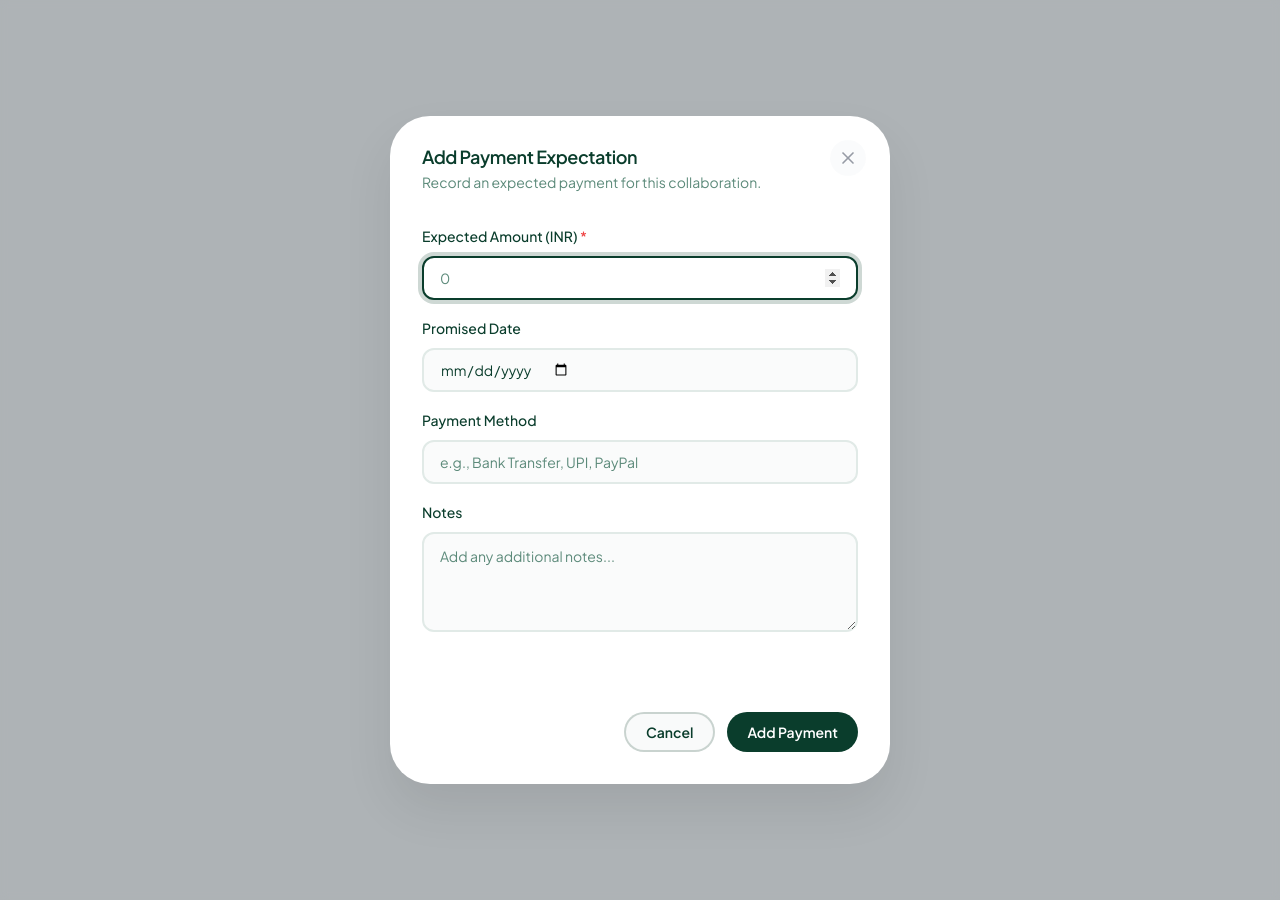
PaymentExpectationModal › Form Validation › should show error when amount is negative
The image size is (1280, 900).
Type "-100" into the number field labelled "Expected Amount (INR) *" at (640,278), box [422, 256, 858, 300]
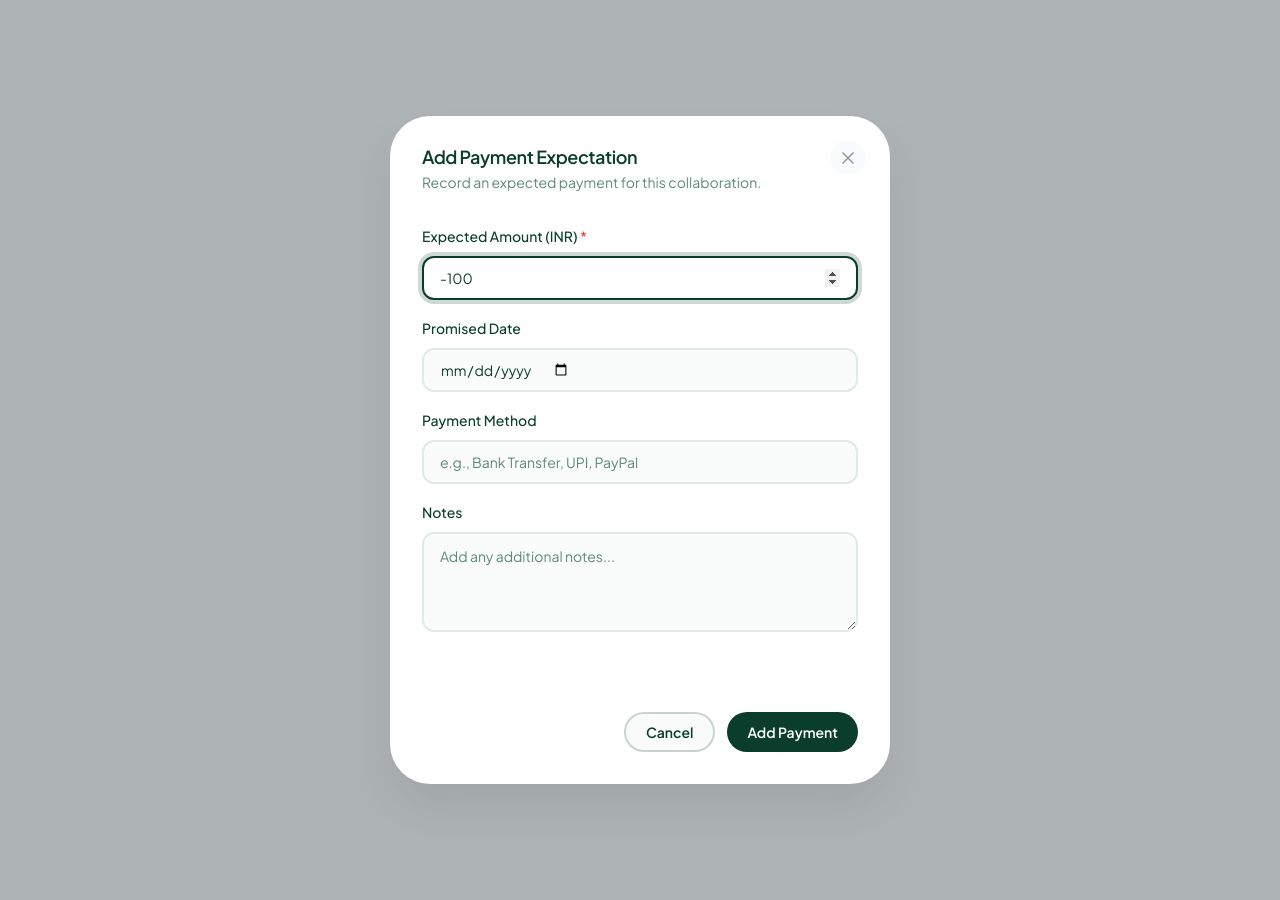
Click the button "Add Payment" at (793,732), box [727, 712, 858, 752]
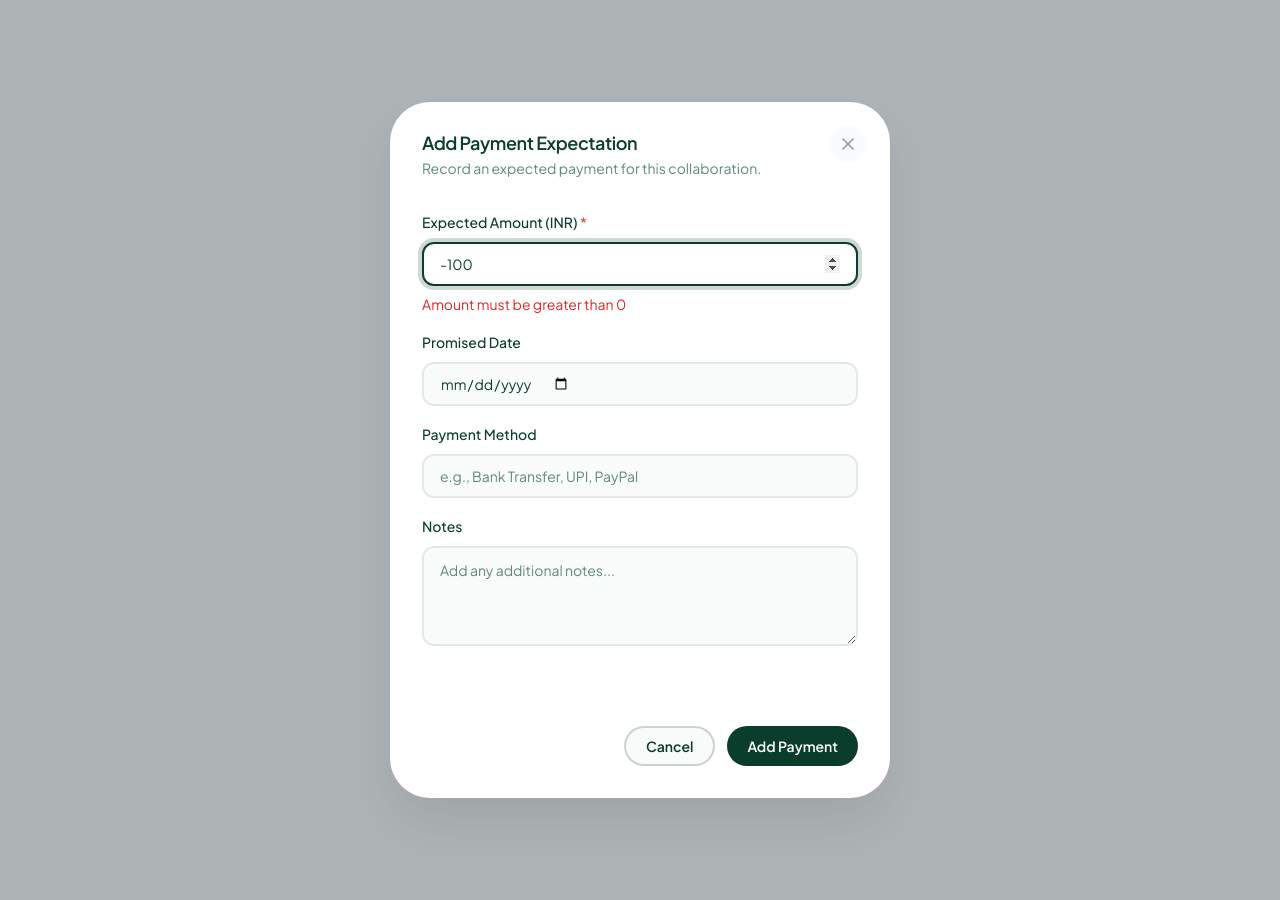
Now the text "Amount must be greater than 0" is shown, box [422, 295, 626, 313]
